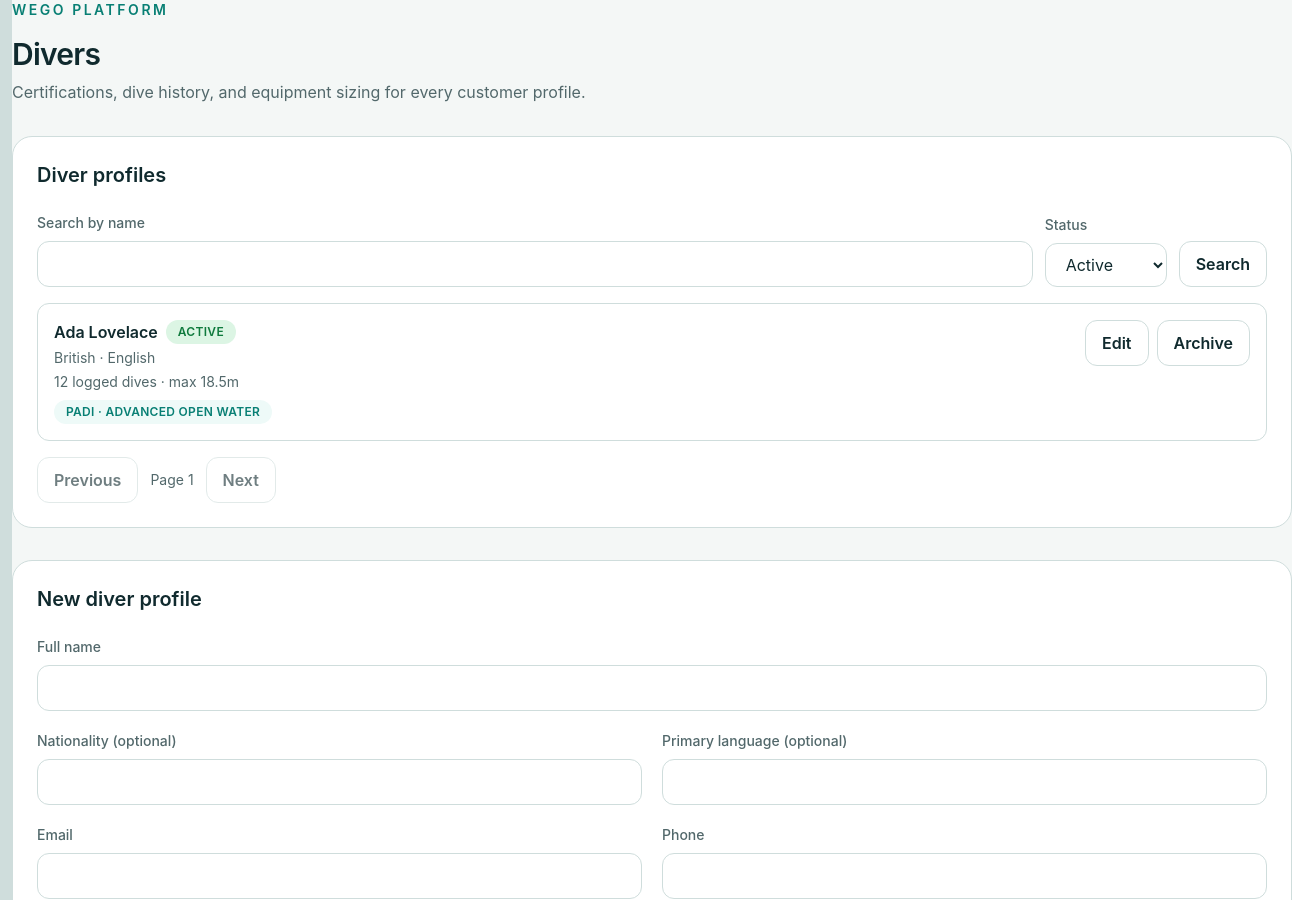
Scenario: divers page › fetches the full diver record (including medical notes) when editing, since the list only carries the roster projection
Click the button "Edit" at coordinates (1117, 343), box [1085, 320, 1148, 366]
(page scrolled)
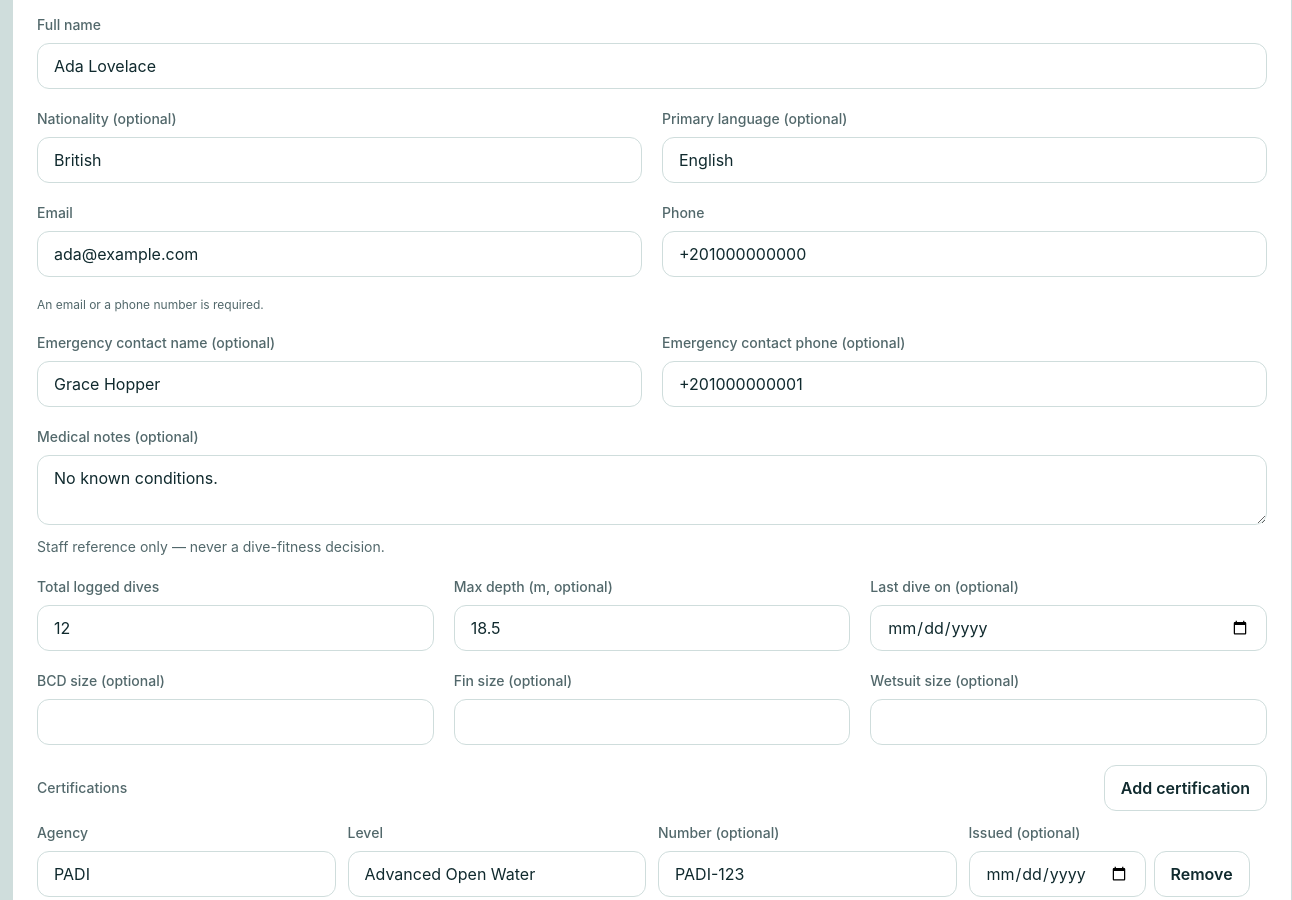
Expected: the text box with id "medicalNotes" holds "No known conditions.", [37, 455, 1267, 525]
